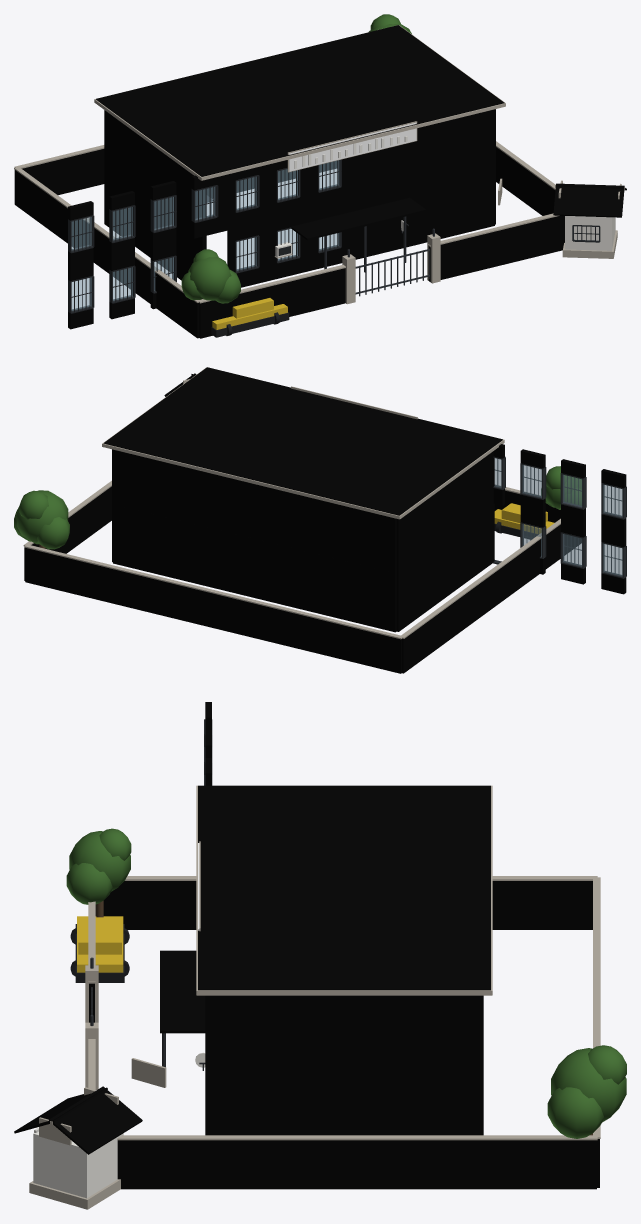
Rendered from rental.glb.
3 renders of one model, top to bottom at view 1: azimuth 30°, elevation 25°; view 2: azimuth 150°, elevation 25°; view 3: azimuth 270°, elevation 25°, orthographic. The views are drawn at different scales.
Parts seen in each view (by area): view 1: object 238, bL (×2), object 16, object 129, object 279, object 282, object 281, object 278, object 261, object 347, object 280, object 243 (+31 smaller); view 2: bBack (×2), object 238, object 278, bL (×2), object 279, object 280, object 283, object 239, object 316, object 284, object 318, object 319 (+8 smaller); view 3: object 238, bR (×2), object 280, object 279, object 326, object 261, object 346, object 285, object 316, object 317, object 242, object 321 (+10 smaller).
Boxes of the visible parts, box(x1,y1,x2,y2) form: object 238: box(96, 25, 504, 176); bL (×2): box(104, 110, 206, 280); object 16: box(341, 165, 494, 263); object 129: box(341, 109, 494, 202); object 279: box(14, 170, 199, 338); object 282: box(428, 215, 564, 281); object 281: box(199, 268, 345, 338); object 278: box(22, 149, 104, 195); object 261: box(291, 197, 426, 240); object 347: box(553, 183, 624, 217); object 280: box(496, 147, 555, 215); object 243: box(289, 122, 416, 171); bBack (×2): box(113, 449, 396, 632); object 238: box(103, 367, 502, 515); object 278: box(25, 548, 401, 673); bL (×2): box(396, 451, 494, 631); object 279: box(402, 524, 581, 673); object 280: box(24, 486, 111, 580); object 283: box(24, 545, 402, 639); object 239: box(102, 443, 399, 519); object 316: box(16, 490, 68, 544); object 284: box(399, 518, 560, 638); object 318: box(37, 517, 69, 549); object 319: box(19, 490, 48, 519); object 238: box(198, 785, 490, 990); bR (×2): box(208, 995, 480, 1135); object 280: box(117, 1140, 596, 1189); object 279: box(95, 881, 592, 929); object 326: box(33, 1131, 123, 1198); object 261: box(160, 950, 205, 1033); object 346: box(49, 1086, 142, 1154); object 285: box(117, 1135, 597, 1140); object 316: box(551, 1048, 626, 1122); object 317: box(547, 1087, 603, 1138); object 242: box(196, 990, 492, 995); object 321: box(69, 831, 130, 891).
Size of what is drawn, in the model's own units: 30.28 by 7.09 by 22.58.
